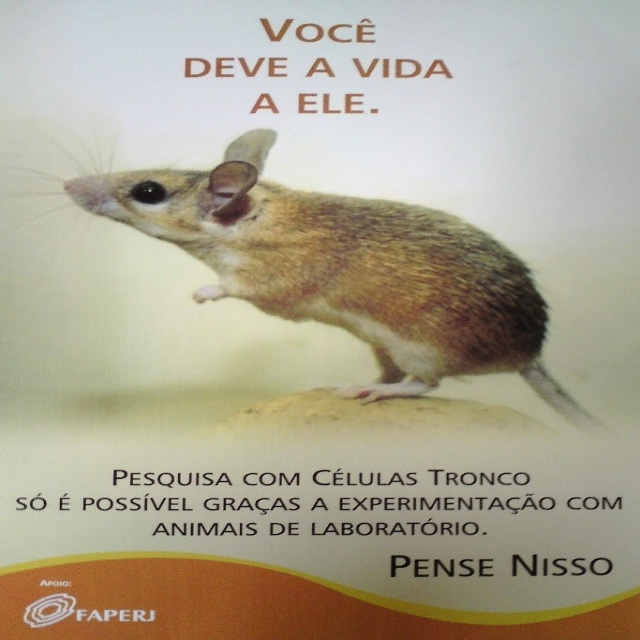Mouse: (40, 119, 588, 425)
